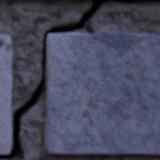brick: (44, 33, 159, 155), (0, 35, 11, 153)
crack: (0, 0, 159, 159)
